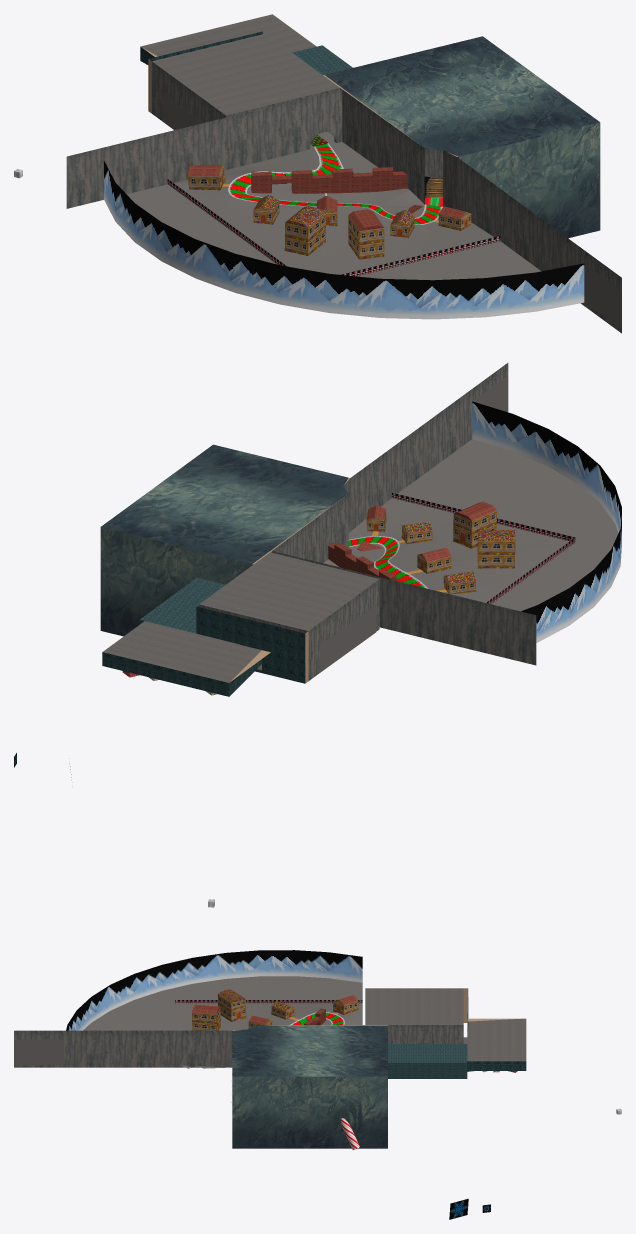
3 views of the same model, one above another, from view 1: azimuth 30°, elevation 25°; view 2: azimuth 150°, elevation 25°; view 3: azimuth 270°, elevation 25° (orthographic). The views are drawn at different scales.
Visible parts, largest first — view 1: Untitled-SKP--Material15.002, Untitled-SKP--Ice_Ice_Baby.001, Untitled-SKP--Material1.001, Untitled-SKP--Material26.001, Untitled-SKP--Material9.002, Untitled-SKP--Material22.002, Untitled-SKP--Material25.002, Untitled-SKP--Material7.002, Untitled-SKP--Fence.001, Untitled-SKP--Material20.002, Untitled-SKP--Material21.002, Untitled-SKP--Material35.001 (+2 smaller); view 2: Untitled-SKP--Ice_Ice_Baby.001, Untitled-SKP--Material1.001, Untitled-SKP--Material15.002, Untitled-SKP--Material9.002, Untitled-SKP--Material26.001, Untitled-SKP--Material14.002, Untitled-SKP--Material22.002, Untitled-SKP--Material12.029, Untitled-SKP--Fence.001, Untitled-SKP--Material7.002, Untitled-SKP--Material20.002, Untitled-SKP--Material25.002 (+2 smaller); view 3: Untitled-SKP--Ice_Ice_Baby.001, Untitled-SKP--Material1.001, Untitled-SKP--Material15.002, Untitled-SKP--Material26.001, Untitled-SKP--Material9.002, Untitled-SKP--Material12.029, Untitled-SKP--Material22.002, Untitled-SKP--Material14.002, Untitled-SKP--Fence.001, Untitled-SKP--Material20.002, Untitled-SKP--Material21.002, Untitled-SKP--Default_Material.001.
Boxes of the visible parts, box(x1,y1,x2,y2) form: Untitled-SKP--Material15.002: box(66, 61, 621, 333); Untitled-SKP--Ice_Ice_Baby.001: box(325, 36, 600, 238); Untitled-SKP--Material1.001: box(110, 93, 621, 329); Untitled-SKP--Material26.001: box(104, 161, 584, 319); Untitled-SKP--Material9.002: box(141, 14, 339, 142); Untitled-SKP--Material22.002: box(187, 176, 460, 259); Untitled-SKP--Material25.002: box(251, 167, 407, 193); Untitled-SKP--Material7.002: box(228, 143, 442, 224); Untitled-SKP--Fence.001: box(167, 179, 500, 276); Untitled-SKP--Material20.002: box(187, 165, 465, 230); Untitled-SKP--Material21.002: box(219, 166, 471, 237); Untitled-SKP--Material35.001: box(253, 195, 414, 227); Untitled-SKP--Ice_Ice_Baby.001: box(100, 444, 348, 636); Untitled-SKP--Material1.001: box(319, 375, 618, 672); Untitled-SKP--Material15.002: box(199, 363, 536, 680); Untitled-SKP--Material9.002: box(103, 552, 379, 682); Untitled-SKP--Material26.001: box(472, 401, 621, 642); Untitled-SKP--Material14.002: box(102, 606, 305, 696); Untitled-SKP--Material22.002: box(384, 509, 515, 594); Untitled-SKP--Material12.029: box(139, 578, 225, 633); Untitled-SKP--Fence.001: box(392, 493, 575, 603); Untitled-SKP--Material7.002: box(348, 536, 428, 588); Untitled-SKP--Material20.002: box(345, 501, 496, 580); Untitled-SKP--Material25.002: box(328, 543, 408, 583); Untitled-SKP--Ice_Ice_Baby.001: box(232, 1025, 387, 1148); Untitled-SKP--Material1.001: box(14, 976, 473, 1071); Untitled-SKP--Material15.002: box(14, 1025, 463, 1067); Untitled-SKP--Material26.001: box(66, 950, 362, 1030); Untitled-SKP--Material9.002: box(365, 988, 526, 1061); Untitled-SKP--Material12.029: box(388, 1044, 467, 1078); Untitled-SKP--Material22.002: box(192, 994, 358, 1030); Untitled-SKP--Material14.002: box(467, 997, 526, 1070); Untitled-SKP--Fence.001: box(175, 1000, 362, 1003); Untitled-SKP--Material20.002: box(192, 995, 358, 1025); Untitled-SKP--Material21.002: box(216, 999, 343, 1030); Untitled-SKP--Default_Material.001: box(231, 988, 520, 1102).
Bounding box in the file's own units: 102459 × 48593 × 180518.
46 materials, 46 textured.
